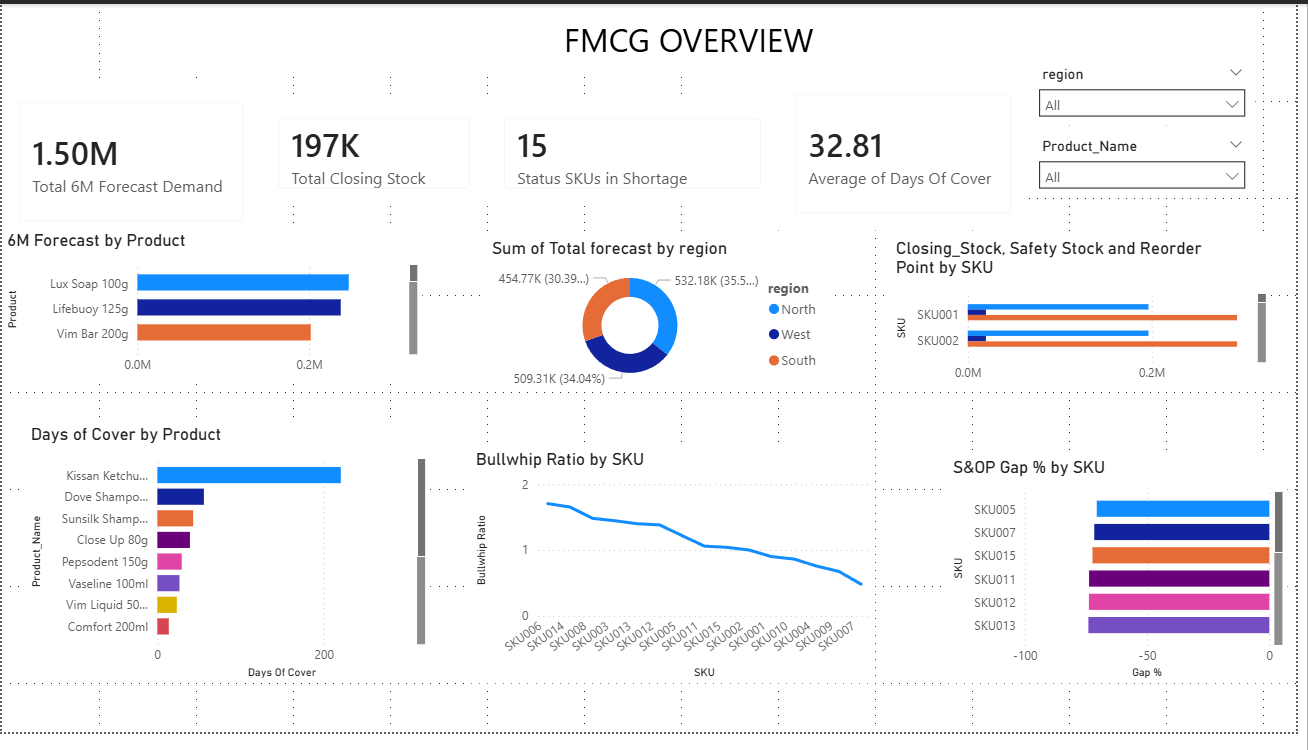

The page's visual inventory and layout, read from the dashboard file:
{"tool":"powerbi","page":{"name":"Page 1","canvas":[1280,720],"ordinal":0},"visuals":[{"type":"textbox","box":[120,8,1120,64],"z":0},{"type":"cardVisual","fields":{"Data":["Sum(Table1.Total forecast)"]},"box":[0,80,256,152],"z":1000},{"type":"cardVisual","fields":{"Data":["Sum(Table3.Closing_Stock)"]},"box":[256,96,224,104],"z":2000},{"type":"cardVisual","fields":{"Data":["CountNonNull(S&OP summary.Status)"]},"box":[480,96,288,104],"z":3000},{"type":"cardVisual","fields":{"Data":["Avg(Product_Master.Days Of Cover)"]},"box":[768,72,248,152],"z":4000},{"type":"barChart","title":"6M Forecast by Product","fields":{"Y":["Sum(Table1.Total forecast)"],"Category":["Table1.Product"],"Series":["Table1.Product"]},"box":[0,224,416,152],"z":5000},{"type":"donutChart","fields":{"Y":["Sum(Table1.Total forecast)"],"Category":["Table1.region"]},"box":[480,232,344,152],"z":6000},{"type":"clusteredBarChart","fields":{"Y":["Sum(Table3.Closing_Stock)","Sum(Product_Master.Safety Stock)","Sum(Table7.Reorder Point)"],"Category":["Table6.SKU"]},"box":[880,232,376,152],"z":7000},{"type":"barChart","title":"Days of Cover by Product","fields":{"Y":["Sum(Product_Master.Days Of Cover)"],"Category":["Product_Master.Product_Name"],"Series":["Product_Master.Product_Name"]},"box":[24,416,400,256],"z":8000},{"type":"lineChart","fields":{"Y":["Sum(Bull whip.Bullwhip Ratio)"],"Category":["Bull whip.SKU"]},"box":[464,440,400,232],"z":9000},{"type":"barChart","title":"S&OP Gap % by SKU","fields":{"Y":["Sum(S&OP summary.Gap %)"],"Category":["S&OP summary.SKU"],"Series":["S&OP summary.SKU"]},"box":[936,448,336,224],"z":10000},{"type":"slicer","fields":{"Values":["Table1.region"]},"box":[1016,56,224,64],"z":11000},{"type":"slicer","fields":{"Values":["Product_Master.Product_Name"]},"box":[1016,128,224,64],"z":12000}]}

Visuals, with their boxes in screenshot pixels (x1, y1, x2, y2), scaled from the page's 1280x720 canvas onto the 1308x750 screenshot:
textbox: detection(123, 8, 1267, 75)
cardVisual - Sum(Table1.Total forecast): detection(0, 83, 262, 242)
cardVisual - Sum(Table3.Closing_Stock): detection(262, 100, 491, 208)
cardVisual - CountNonNull(S&OP summary.Status): detection(491, 100, 785, 208)
cardVisual - Avg(Product_Master.Days Of Cover): detection(785, 75, 1038, 233)
"6M Forecast by Product" barChart: detection(0, 233, 425, 392)
donutChart - Sum(Table1.Total forecast) x Table1.region: detection(491, 242, 842, 400)
clusteredBarChart - Sum(Table3.Closing_Stock) x Sum(Product_Master.Safety Stock): detection(899, 242, 1283, 400)
"Days of Cover by Product" barChart: detection(25, 433, 433, 700)
lineChart - Sum(Bull whip.Bullwhip Ratio) x Bull whip.SKU: detection(474, 458, 883, 700)
"S&OP Gap % by SKU" barChart: detection(956, 467, 1300, 700)
slicer - Table1.region: detection(1038, 58, 1267, 125)
slicer - Product_Master.Product_Name: detection(1038, 133, 1267, 200)
